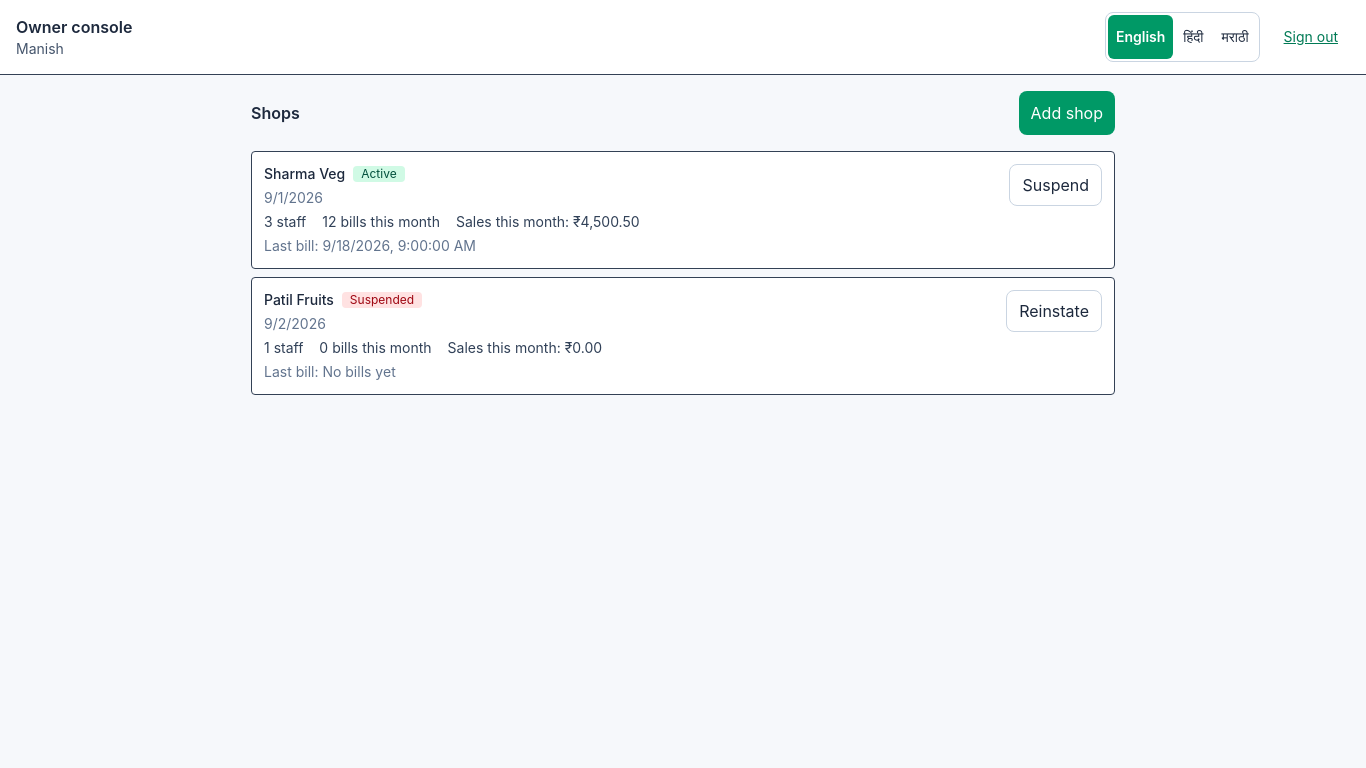
the owner console › shows a create failure in the problem box
This screenshot has width=1366, height=768.
Expected: the list item with test id "owner-vendor-v1" is shown, [251,151,1115,269]
Click the button with test id "owner-add": (1067, 113) [1019,91,1115,135]
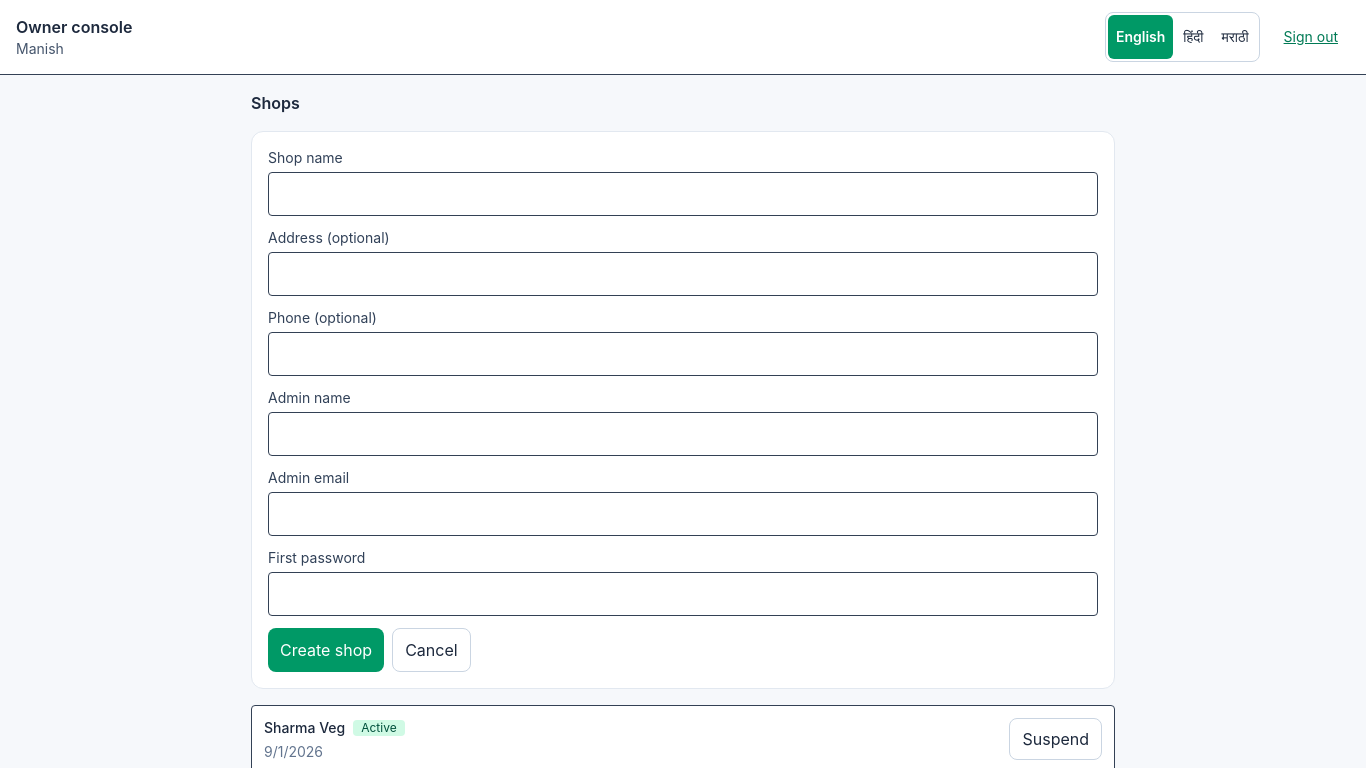
In the field with test id "owner-vendorName": (683, 194) [268,172,1098,216], type "New Shop"
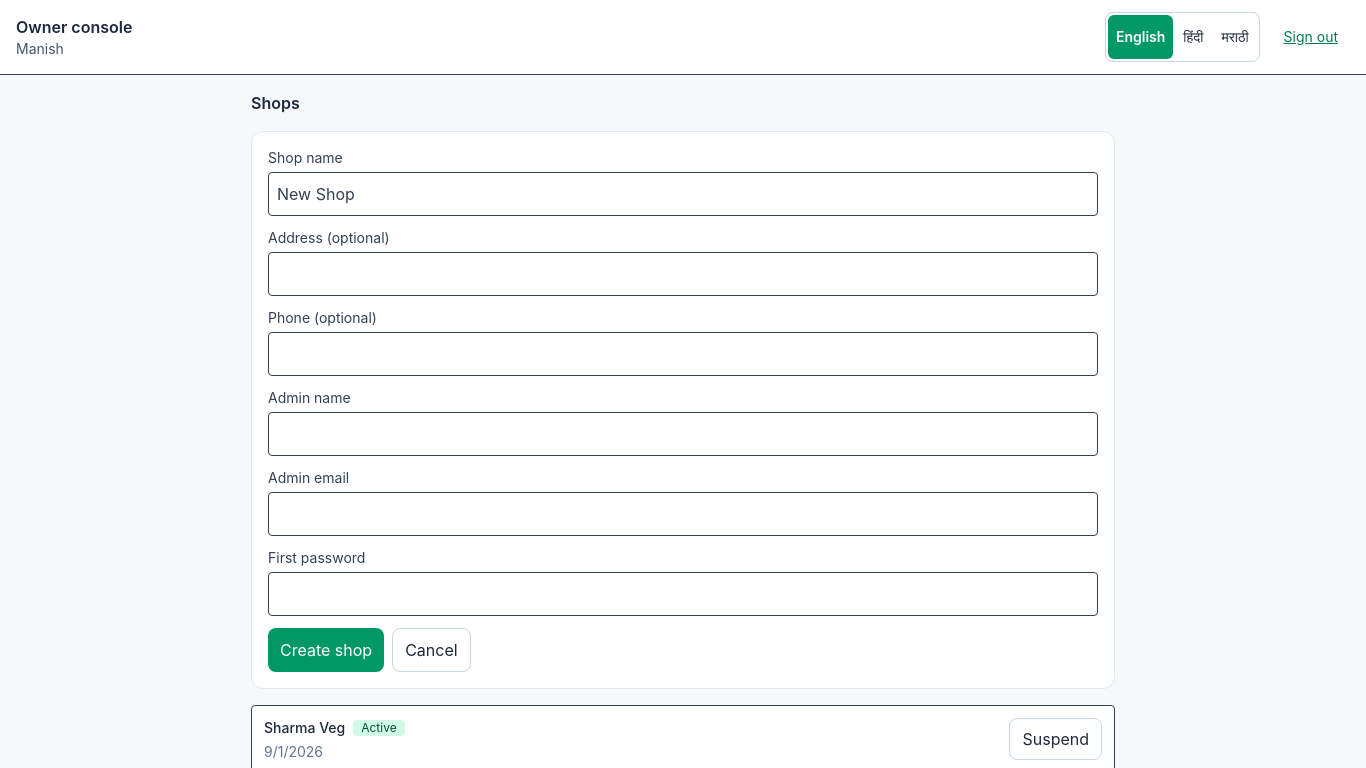
In the field with test id "owner-adminName": (683, 434) [268,412,1098,456], type "Asha"
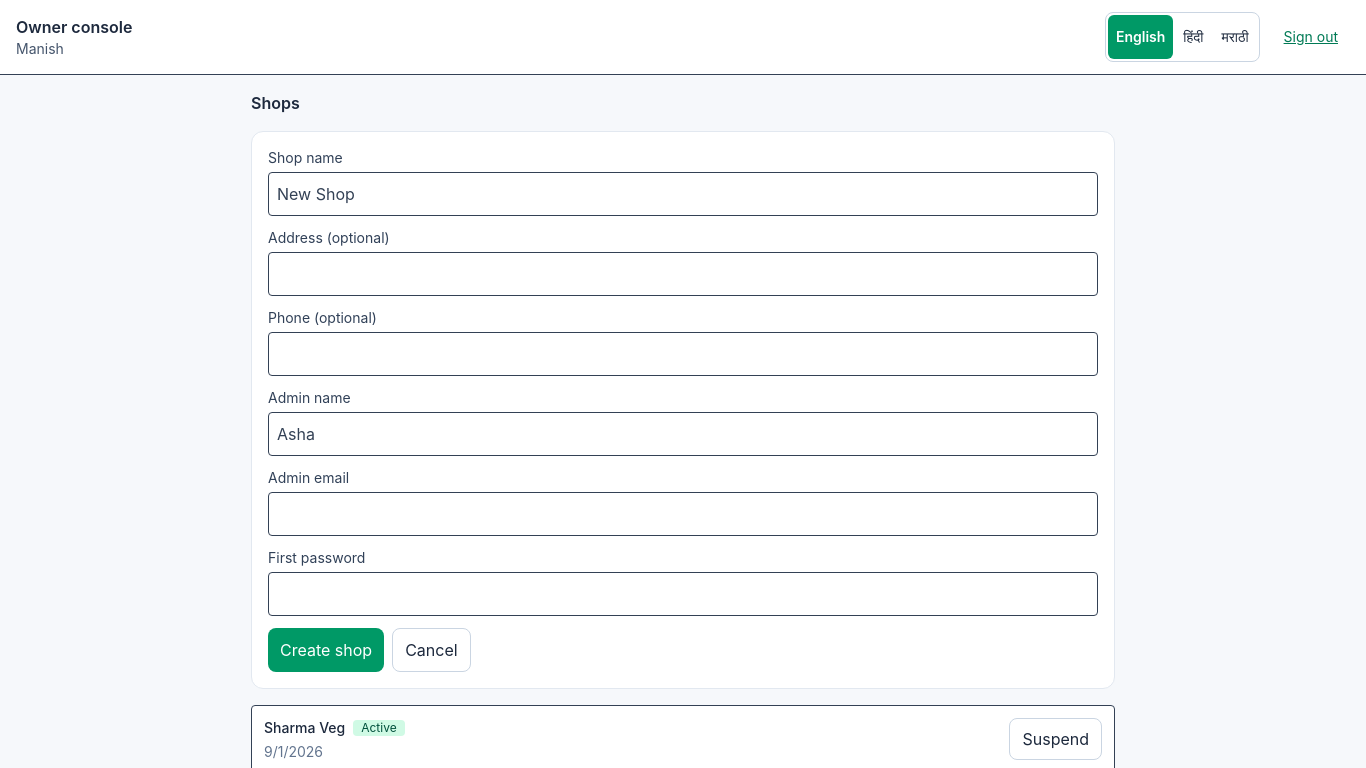
In the field with test id "owner-email": (683, 514) [268,492,1098,536], type "asha@shop.test"
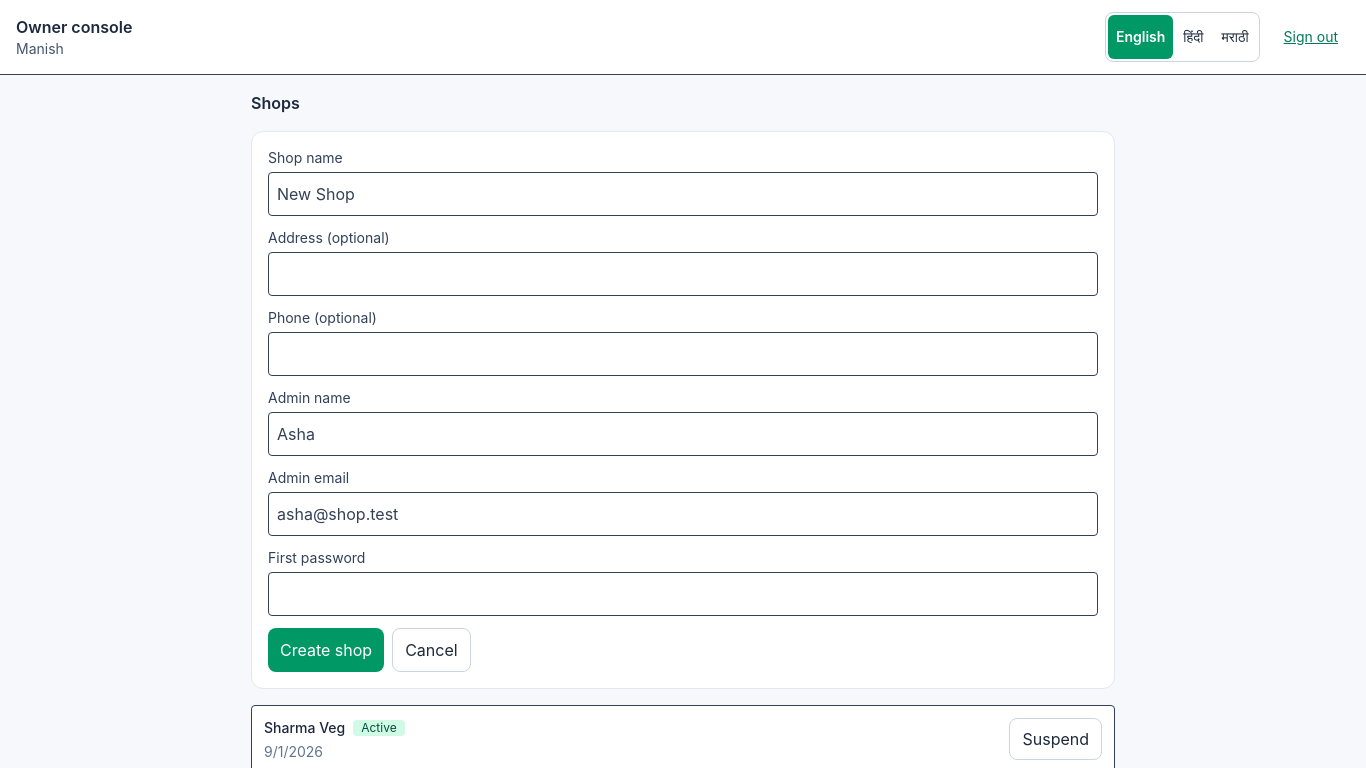
In the password field with test id "owner-password": (683, 594) [268,572,1098,616], type "sunflower9"
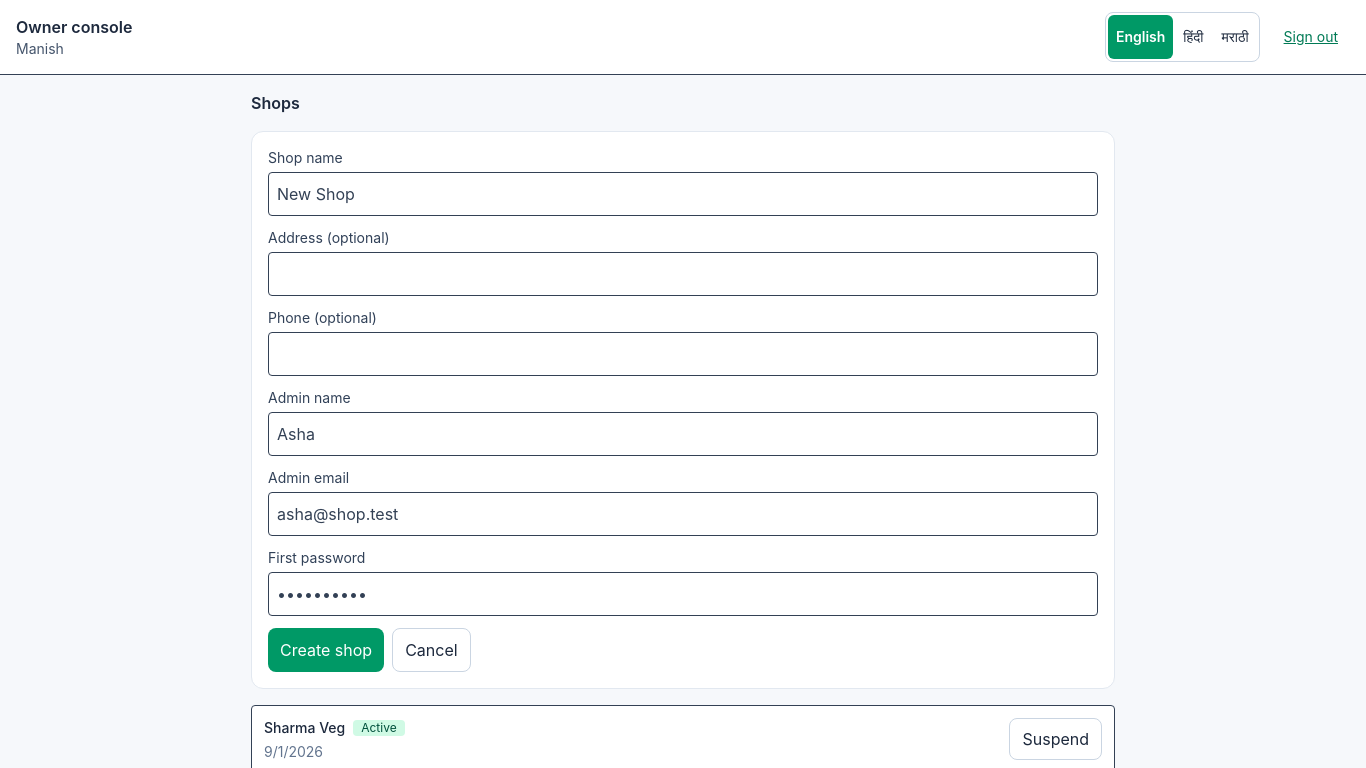
Click the button with test id "owner-save": (326, 650) [268,628,384,672]
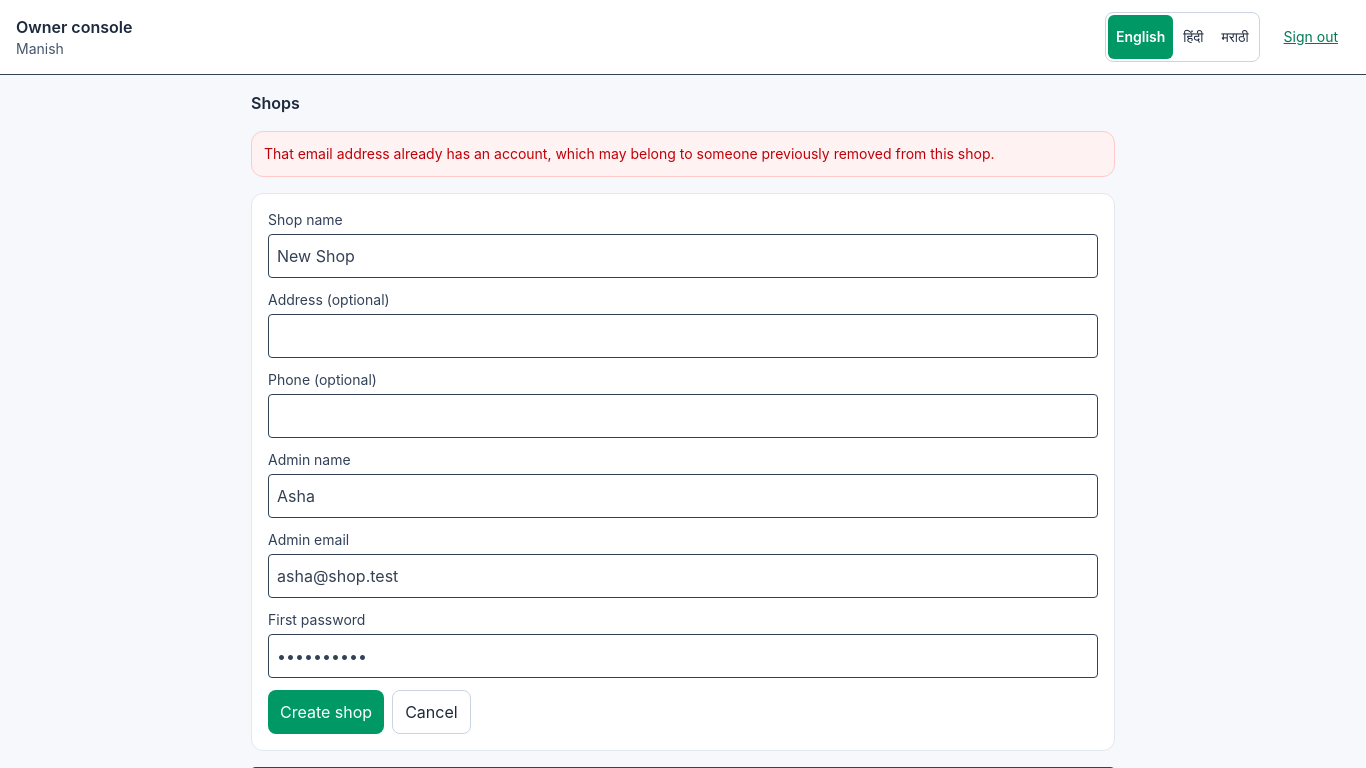
Result: the text with test id "owner-problem" is shown at [264,145,994,162]
